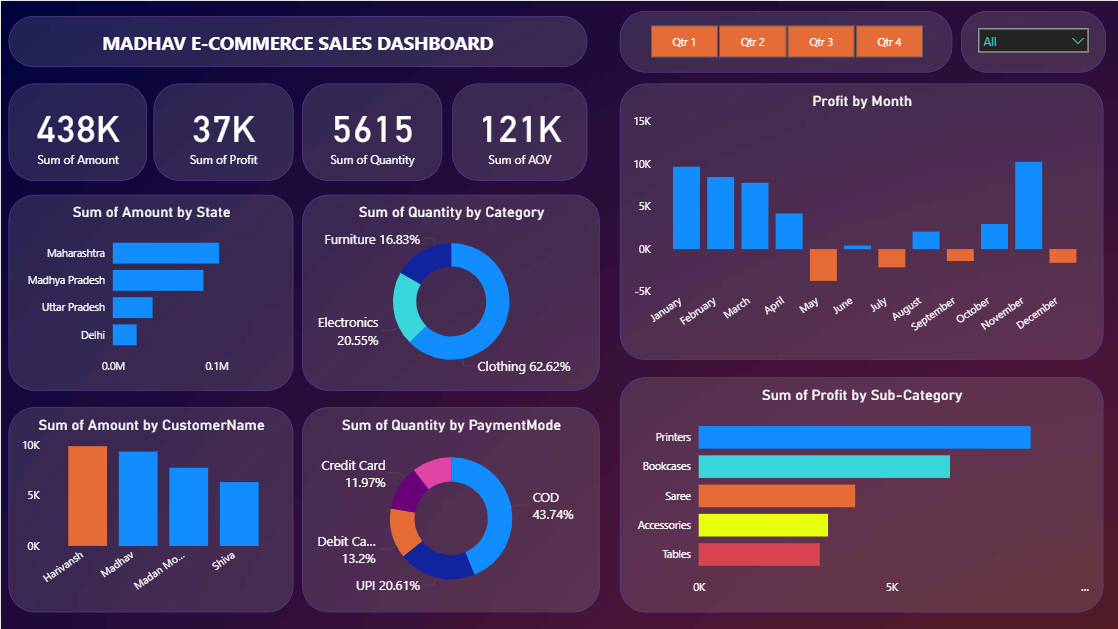

The page's visual inventory and layout, read from the dashboard file:
{"tool":"powerbi","page":{"name":"Page 1","canvas":[1280,720],"ordinal":0},"visuals":[{"type":"textbox","box":[8.6,17.1,661.4,58.6],"z":0},{"type":"columnChart","title":"Profit by Month","fields":{"Category":["Orders.Order Date.Variation.Date Hierarchy.Month"],"Y":["Details.Profit"]},"box":[707.1,94.3,552.9,315.7],"z":1000},{"type":"barChart","fields":{"Category":["Details.Sub-Category"],"Y":["Details.Profit"]},"box":[707.1,430,552.9,268.6],"z":2000},{"type":"donutChart","fields":{"Category":["Details.Category"],"Y":["Details.Quantity"]},"box":[344.3,221.4,340,224.3],"z":3000},{"type":"donutChart","fields":{"Y":["Details.Quantity"],"Category":["Details.PaymentMode"]},"box":[344.3,464.3,340,234.3],"z":4000},{"type":"card","fields":{"Values":["Details.Amount"]},"box":[8.6,94.3,158.6,111.4],"z":5000},{"type":"card","fields":{"Values":["Details.Quantity"]},"box":[344.3,94.3,160,111.4],"z":6000},{"type":"card","fields":{"Values":["Details.Profit"]},"box":[174.3,94.3,160,111.4],"z":7000},{"type":"card","fields":{"Values":["Details.AOV"]},"box":[515.7,94.3,154.3,111.4],"z":8000},{"type":"barChart","fields":{"Category":["Orders.State"],"Y":["Details.Amount"]},"box":[8.6,221.4,325.7,224.3],"z":9000},{"type":"columnChart","fields":{"Category":["Orders.CustomerName"],"Y":["Details.Amount"]},"box":[8.6,464.3,325.7,234.3],"z":10000},{"type":"slicer","fields":{"Values":["Orders.Order Date.Variation.Date Hierarchy.Quarter"]},"box":[707.1,11.4,380,70],"z":11000},{"type":"slicer","fields":{"Values":["Orders.State"]},"box":[1097.1,11.4,165.7,70],"z":12000}]}

Visuals, with their boxes in screenshot pixels (x1, y1, x2, y2), scaled from the page's 1280x720 canvas onto the 1118x629 screenshot:
textbox: [x1=8, y1=15, x2=585, y2=66]
"Profit by Month" columnChart: [x1=618, y1=82, x2=1101, y2=358]
barChart - Details.Sub-Category x Details.Profit: [x1=618, y1=376, x2=1101, y2=610]
donutChart - Details.Category x Details.Quantity: [x1=301, y1=193, x2=598, y2=389]
donutChart - Details.Quantity x Details.PaymentMode: [x1=301, y1=406, x2=598, y2=610]
card - Details.Amount: [x1=8, y1=82, x2=146, y2=180]
card - Details.Quantity: [x1=301, y1=82, x2=440, y2=180]
card - Details.Profit: [x1=152, y1=82, x2=292, y2=180]
card - Details.AOV: [x1=450, y1=82, x2=585, y2=180]
barChart - Orders.State x Details.Amount: [x1=8, y1=193, x2=292, y2=389]
columnChart - Orders.CustomerName x Details.Amount: [x1=8, y1=406, x2=292, y2=610]
slicer - Orders.Order Date.Variation.Date Hierarchy.Quarter: [x1=618, y1=10, x2=950, y2=71]
slicer - Orders.State: [x1=958, y1=10, x2=1103, y2=71]
